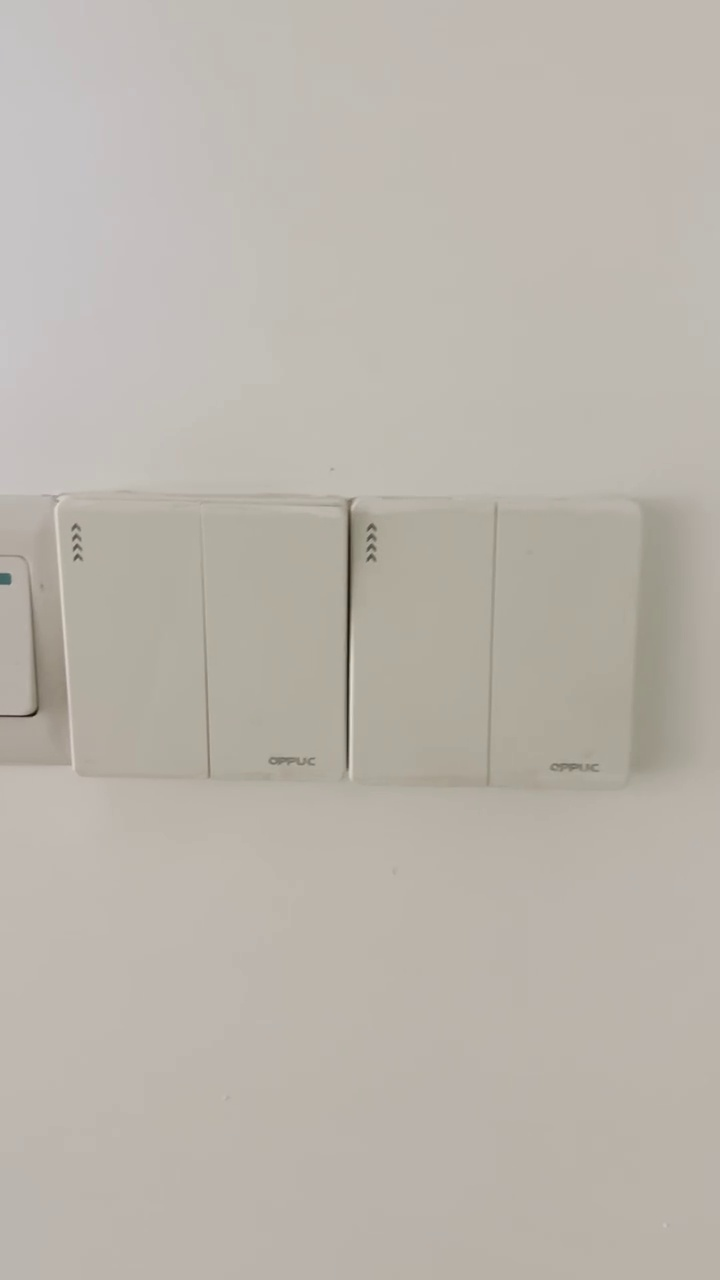button1: (64, 501, 206, 780), (496, 504, 631, 784), (357, 505, 486, 781), (214, 508, 340, 775)
